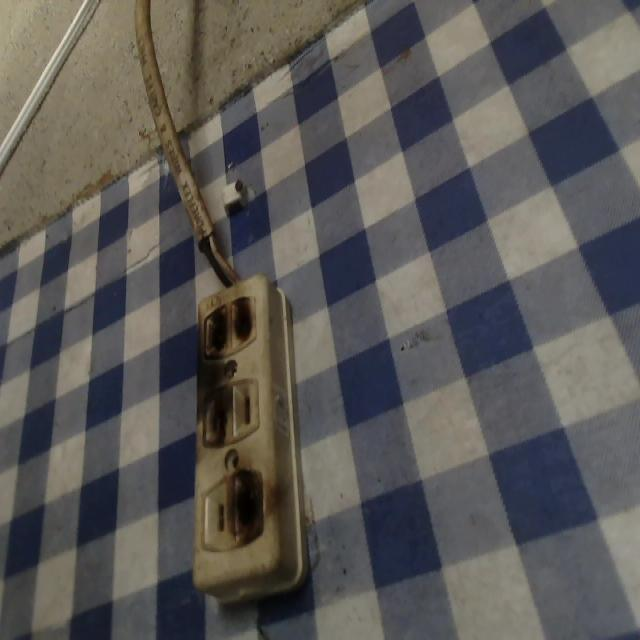-: (202, 293, 256, 348), (229, 472, 262, 540), (203, 385, 228, 443)
